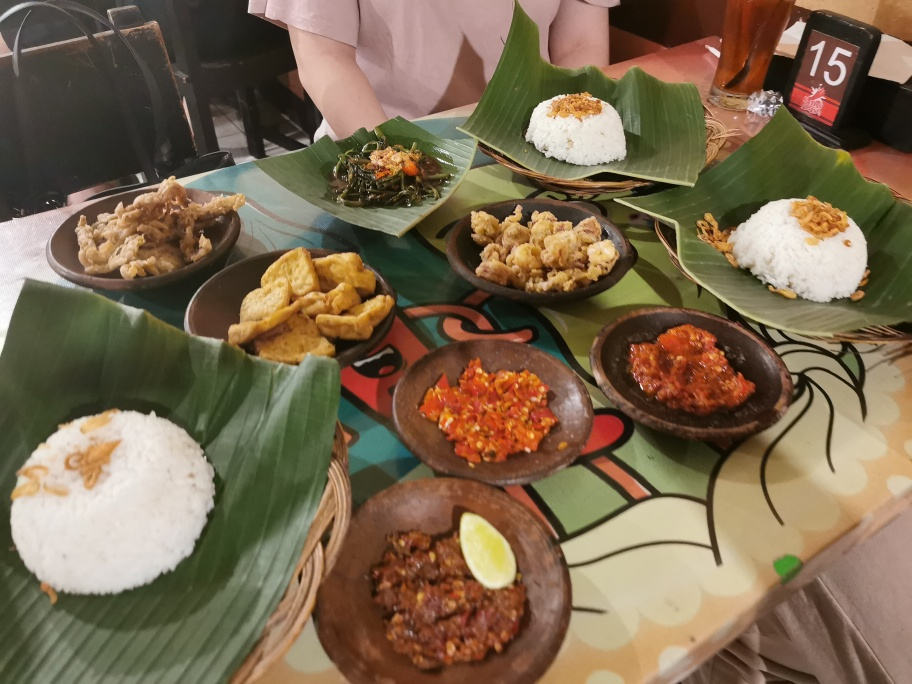nasi putih: (16, 410, 214, 595), (729, 193, 867, 304), (526, 90, 628, 165)
